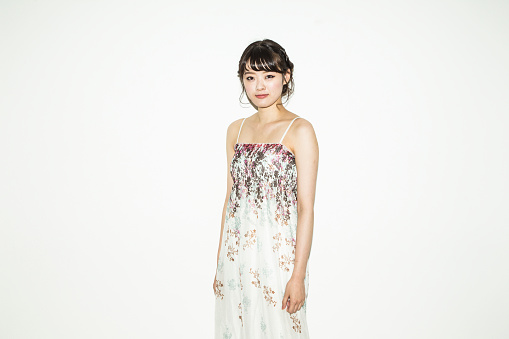em pe: (200, 36, 328, 337)
